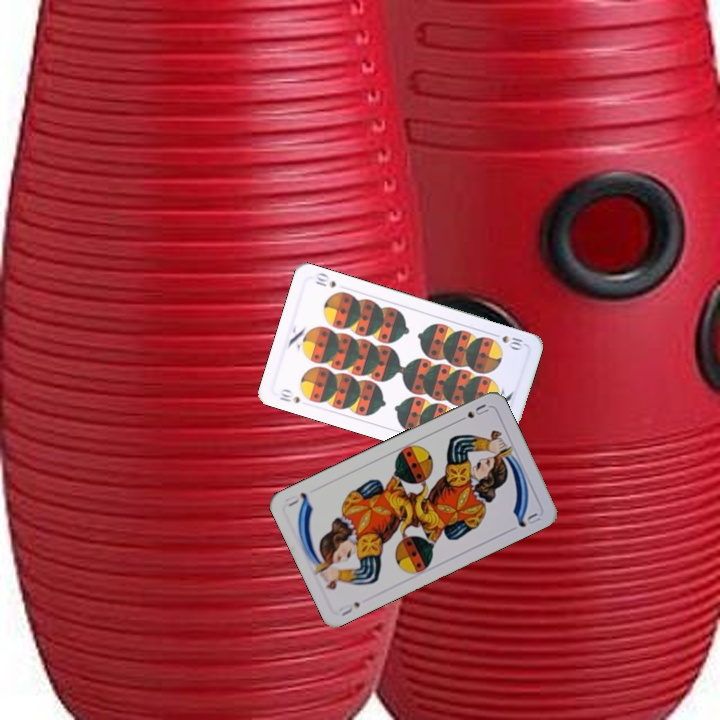S10: (488, 329, 527, 352), (275, 385, 302, 406)
SU: (453, 400, 491, 425), (335, 598, 362, 619)
